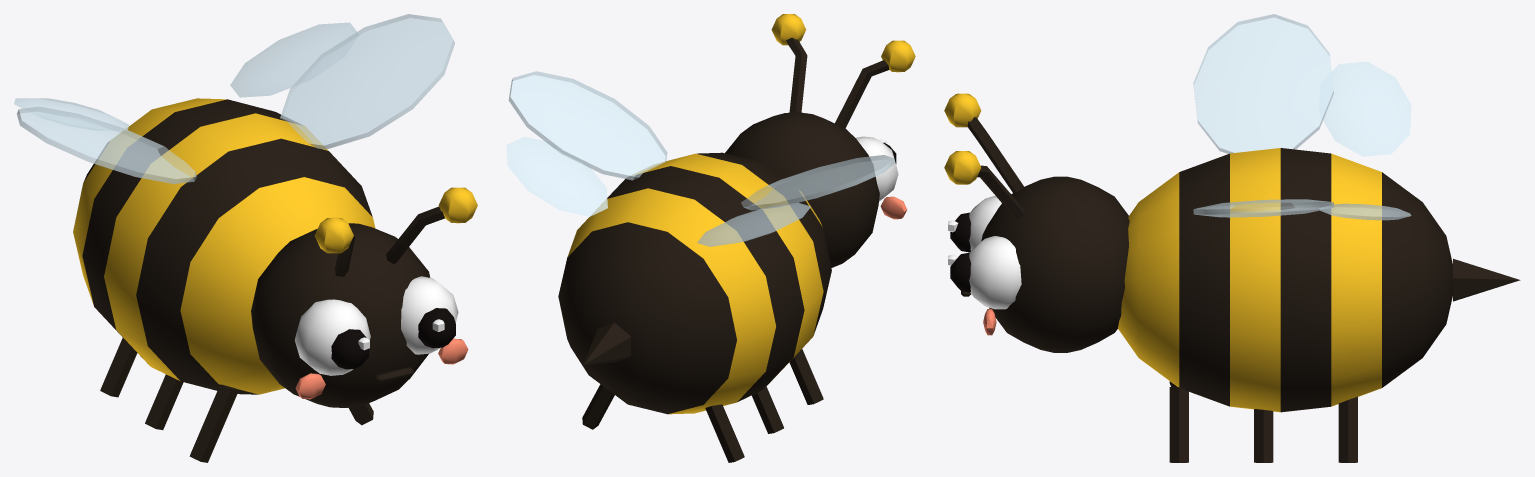
File: bee.glb
The picture shows the model from 3 angles, left to right: view 1: azimuth 30°, elevation 25°; view 2: azimuth 150°, elevation 25°; view 3: azimuth 270°, elevation 25°; orthographic projection. The views are drawn at different scales.
Visible parts, largest first — view 1: Bee; view 2: Bee; view 3: Bee.
Boxes of the visible parts, <box> form: Bee: <box>14,14,477,462</box>; Bee: <box>506,14,915,462</box>; Bee: <box>944,14,1520,462</box>.
Size of the model in its own units: 1.3 by 0.9825 by 1.62.
